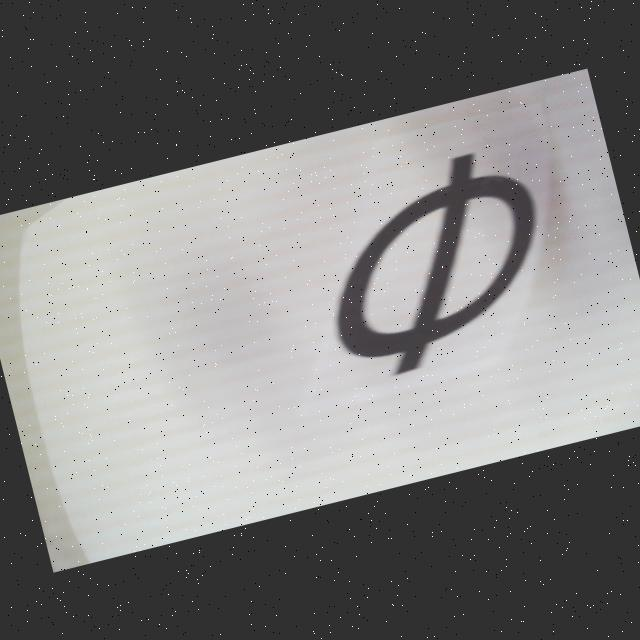PHI: (304, 140, 566, 387)
